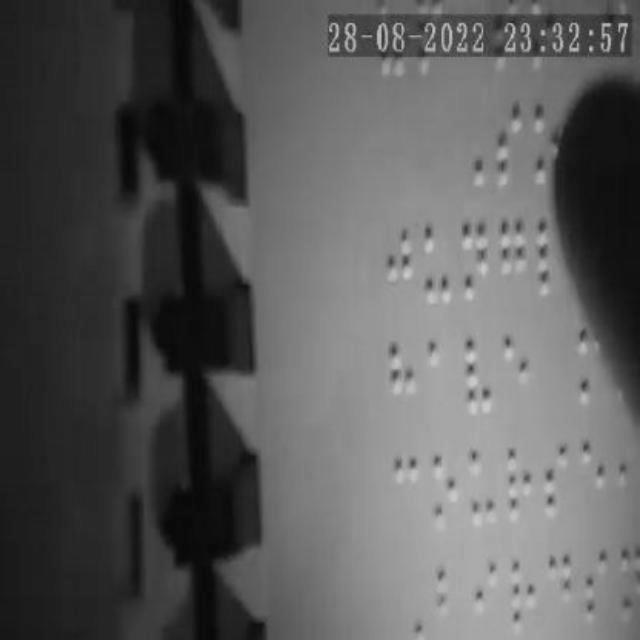braiile: (494, 94, 534, 188), (468, 550, 508, 640), (459, 329, 495, 425), (536, 210, 572, 306), (506, 550, 544, 640), (421, 222, 457, 314), (424, 332, 460, 424), (458, 216, 492, 312), (428, 448, 464, 538), (580, 543, 616, 633), (466, 442, 502, 530), (501, 334, 534, 428), (388, 448, 422, 538), (546, 548, 580, 638), (496, 212, 528, 304), (382, 222, 414, 312), (386, 336, 418, 426), (505, 446, 537, 536), (540, 437, 570, 533), (580, 438, 610, 518)
